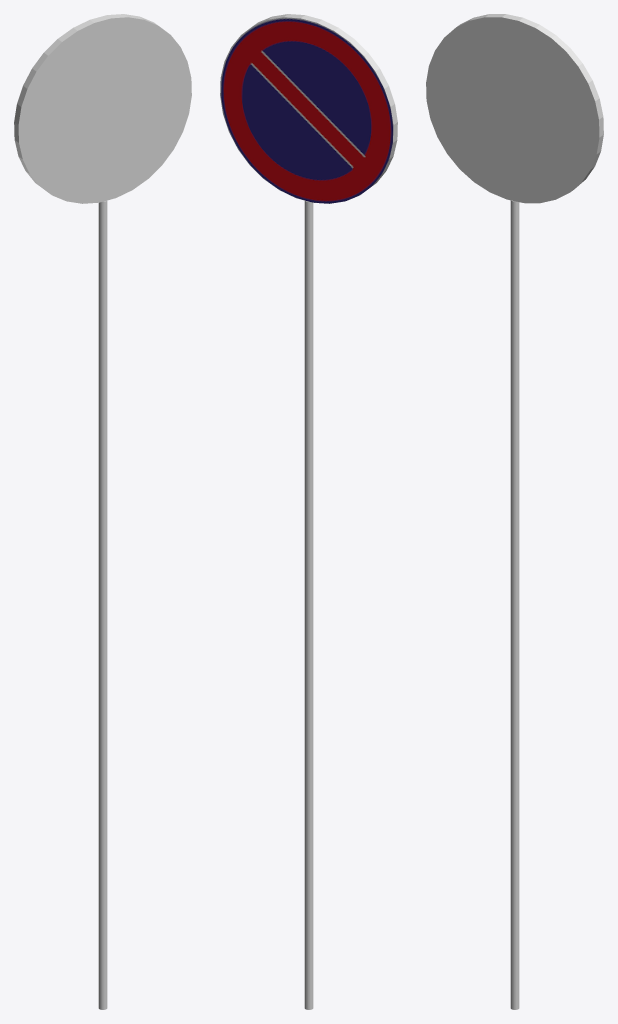
The model's file is parkyok.dae.
3 views of the same model, side by side, from view 1: azimuth 30°, elevation 25°; view 2: azimuth 150°, elevation 25°; view 3: azimuth 330°, elevation 25° (orthographic).
Visible parts, largest first — view 1: Cylinder_001, Cylinder; view 2: Cylinder_001, Cylinder; view 3: Cylinder_001, Cylinder.
Boxes of the visible parts, x1,y1,x2,y2 form: Cylinder_001: [14, 14, 191, 203]; Cylinder: [98, 200, 107, 1009]; Cylinder_001: [220, 14, 397, 203]; Cylinder: [304, 200, 313, 1009]; Cylinder_001: [426, 14, 603, 203]; Cylinder: [510, 200, 519, 1009].
Size of the model in its own units: 0.4489 by 0.02 by 2.45.
1 material, 1 textured.
